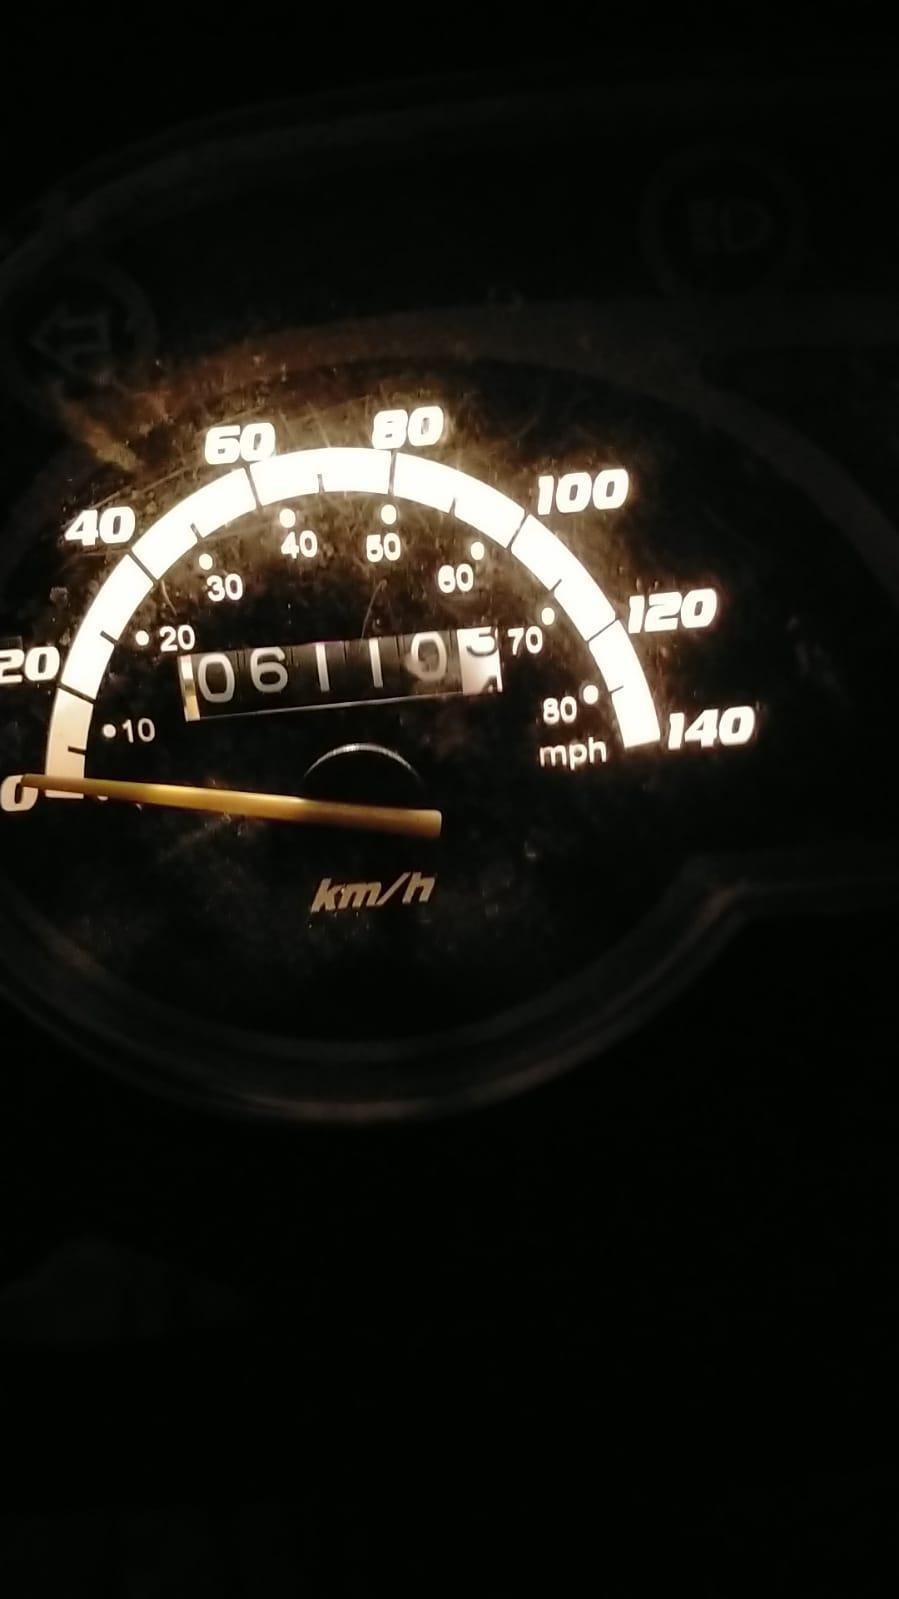0: (406, 626, 451, 687), (196, 649, 238, 706), (177, 622, 196, 653)
1: (310, 633, 338, 698), (364, 630, 389, 700)
3: (465, 620, 502, 667)
6: (247, 642, 291, 702)
odometer: (175, 623, 508, 725)
